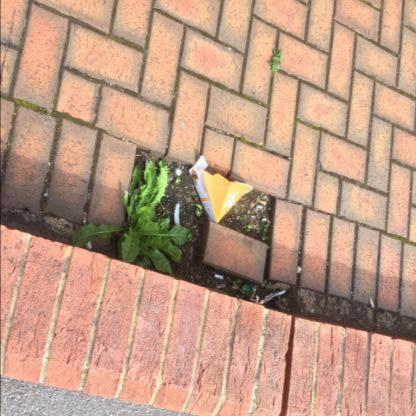Aluminium foil: (258, 291, 285, 306)
Bottle: (242, 283, 253, 296)
Carton: (189, 155, 253, 223)
Cigarette: (251, 287, 256, 298), (214, 274, 223, 280), (256, 295, 260, 304), (256, 205, 262, 209), (251, 215, 255, 218)
